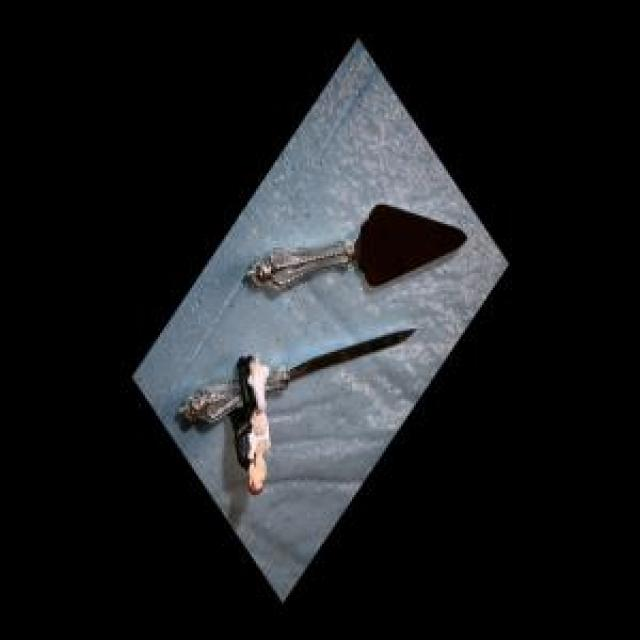knife: (177, 316, 417, 428)
